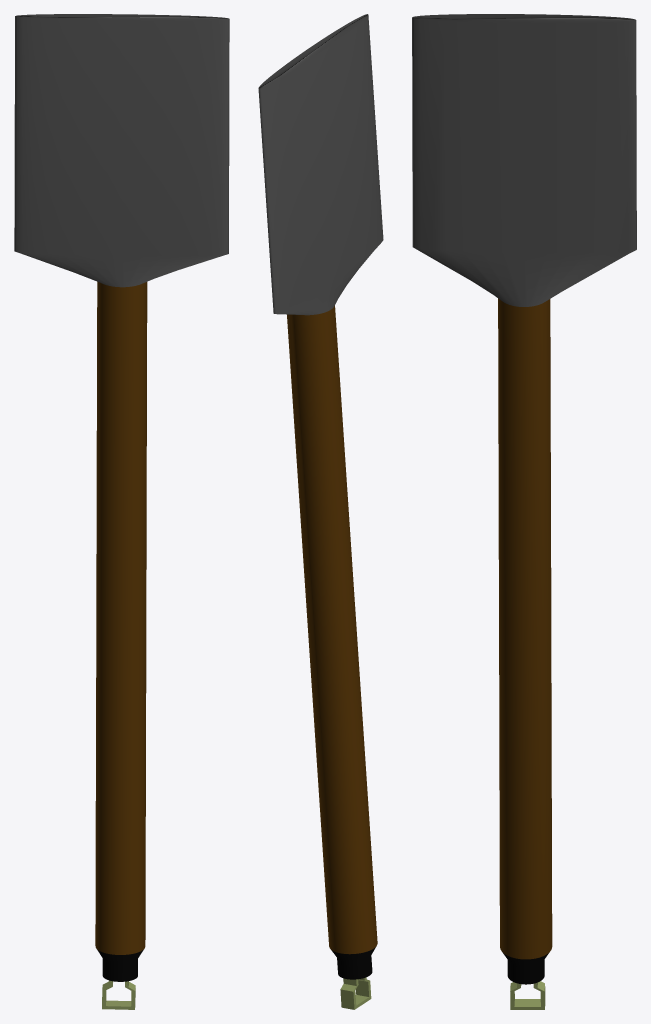
The model's file is shovel.glb.
The picture shows the model from 3 angles, left to right: view 1: azimuth 90°, elevation 25°; view 2: azimuth 150°, elevation 25°; view 3: azimuth 270°, elevation 25°; orthographic projection. The views are drawn at different scales.
Parts seen in each view (by area): view 1: Cylinder; view 2: Cylinder; view 3: Cylinder.
Part boxes in pixels (x1,y1,x2,y2): Cylinder: (14, 14, 229, 1009); Cylinder: (258, 14, 383, 1009); Cylinder: (412, 14, 636, 1009).
Bounding box in the file's own units: 0.0783 × 0.8229 × 0.1657.
